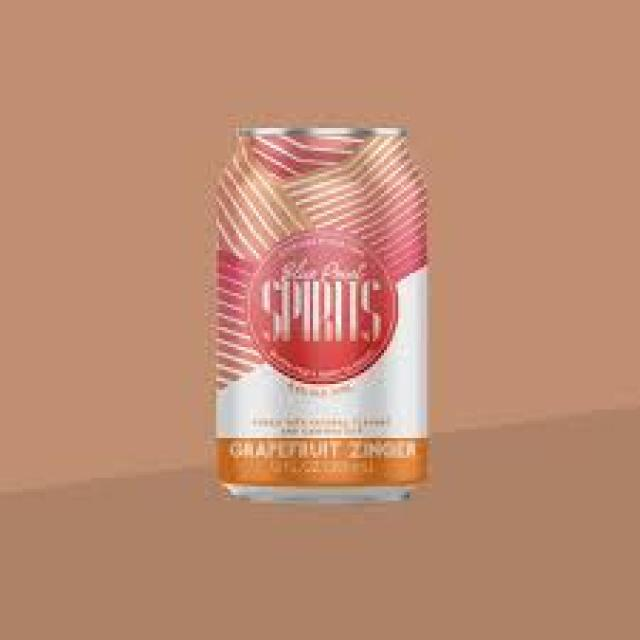Cans: (208, 117, 441, 509)
